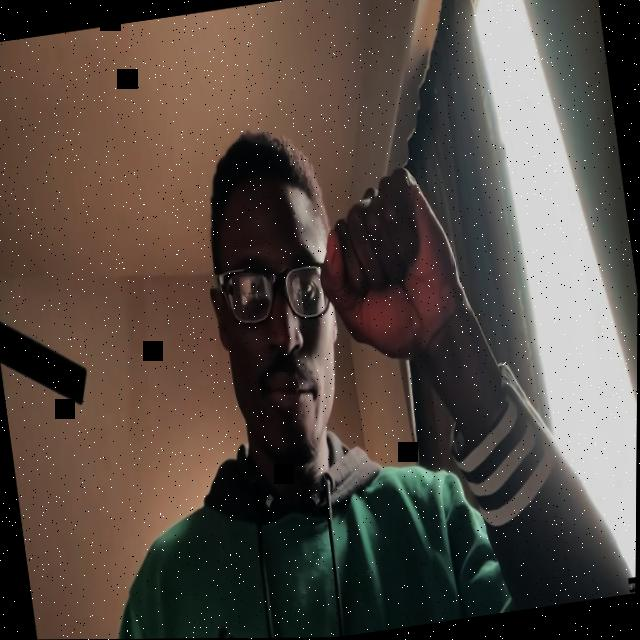Rock: (306, 162, 472, 366)
